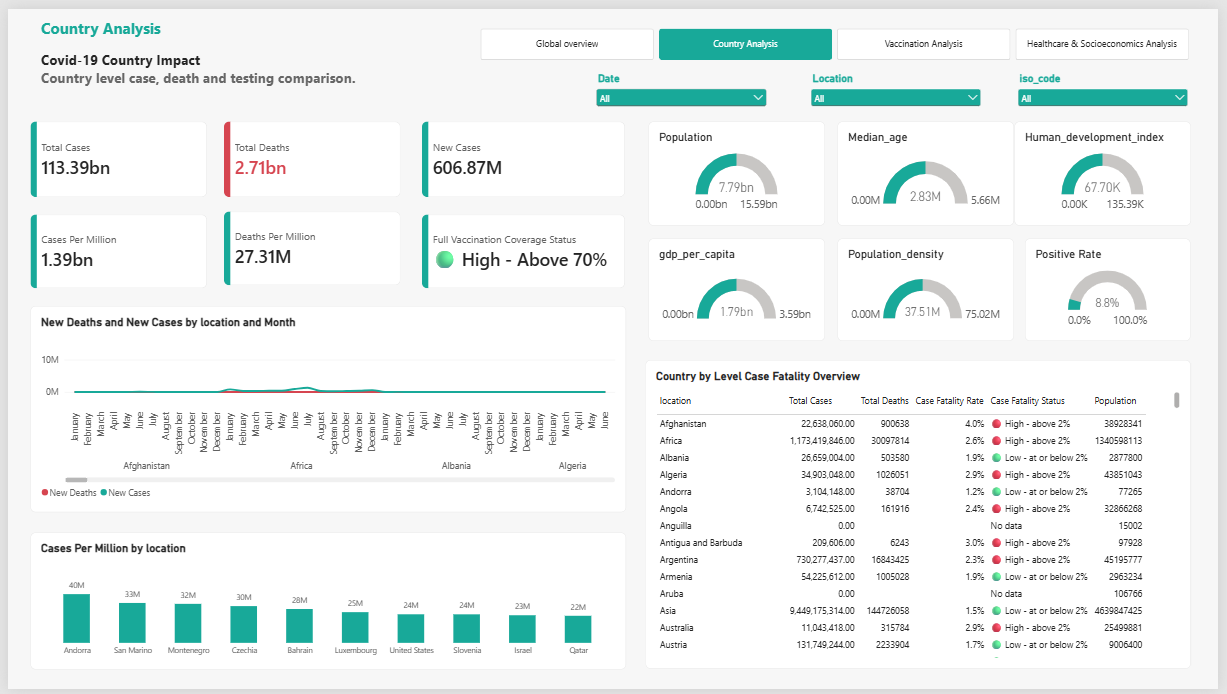

This screenshot's page, from the dashboard's own definition file:
{"tool":"powerbi","page":{"name":"Country Analysis","canvas":[1920,1080],"ordinal":1},"visuals":[{"type":"cardVisual","fields":{"Data":["calculations.Total Cases"]},"box":[35,177.5,280,120],"z":0},{"type":"cardVisual","fields":{"Data":["calculations.Total Deaths"]},"box":[342.5,177.5,280,120],"z":1},{"type":"cardVisual","fields":{"Data":["calculations.New Cases"]},"box":[657.5,177.5,322.5,120],"z":2},{"type":"cardVisual","fields":{"Data":["calculations.Cases Per Million"]},"box":[35,325,280,117.5],"z":3},{"type":"cardVisual","fields":{"Data":["calculations.Deaths Per Million"]},"box":[342.5,322.5,280,117.5],"z":4},{"type":"cardVisual","fields":{"Data":["calculations.Full Vaccination Coverage Status"]},"box":[657.5,325,322.5,117.5],"z":5},{"type":"lineChart","fields":{"Category":["Sheet1.location","Sheet1.date.Variation.Date Hierarchy.Month"],"Y":["calculations.New Deaths","calculations.New Cases"]},"box":[35,472.5,945,327.5],"z":6},{"type":"columnChart","fields":{"Category":["Sheet1.location"],"Y":["calculations.Cases Per Million"]},"box":[35,830,945,217.5],"z":7},{"type":"tableEx","title":"Country by Level Case Fatality Overview","fields":{"Values":["Sheet1.location","calculations.Total Cases","calculations.Total Deaths","calculations.Case Fatality Rate","calculations.Case Fatality Status","calculations.Population"]},"box":[1012.5,557.5,865,490],"z":8},{"type":"pageNavigator","box":[750,30,1127.3,50],"z":9},{"type":"gauge","fields":{"Y":["calculations.Positive Rate"]},"box":[1615,365,262.5,162.5],"z":10},{"type":"gauge","title":"Human_development_index","fields":{"Y":["Sum(Sheet1.human_development_index)"]},"box":[1597.5,177.5,280,165],"z":11},{"type":"gauge","fields":{"Y":["Sum(Sheet1.median_age)"]},"box":[1317.5,177.5,280,165],"z":12},{"type":"gauge","fields":{"Y":["Sum(Sheet1.gdp_per_capita)"]},"box":[1017.5,365,280,162.5],"z":13},{"type":"gauge","fields":{"Y":["Sum(Sheet1.population_density)"]},"box":[1317.5,365,280,162.5],"z":14},{"type":"gauge","fields":{"Y":["calculations.Population"]},"box":[1017.5,177.5,280,165],"z":15},{"type":"slicer","fields":{"Values":["Sheet1.date"]},"box":[927.5,100,280,55],"z":16},{"type":"slicer","fields":{"Values":["Sheet1.location"]},"box":[1270,100,280,55],"z":17},{"type":"slicer","fields":{"Values":["Sheet1.iso_code"]},"box":[1597.5,100,280,55],"z":18},{"type":"textbox","box":[52.5,15,527.5,140],"z":19}]}

Visuals, with their boxes in screenshot pixels (x1, y1, x2, y2), scaled from the page's 1920x1080 canvas onto the 1227x694 screenshot:
cardVisual - calculations.Total Cases: pyautogui.locateOnScreen(22, 114, 201, 191)
cardVisual - calculations.Total Deaths: pyautogui.locateOnScreen(219, 114, 398, 191)
cardVisual - calculations.New Cases: pyautogui.locateOnScreen(420, 114, 626, 191)
cardVisual - calculations.Cases Per Million: pyautogui.locateOnScreen(22, 209, 201, 284)
cardVisual - calculations.Deaths Per Million: pyautogui.locateOnScreen(219, 207, 398, 283)
cardVisual - calculations.Full Vaccination Coverage Status: pyautogui.locateOnScreen(420, 209, 626, 284)
lineChart - Sheet1.location x Sheet1.date.Variation.Date Hierarchy.Month: pyautogui.locateOnScreen(22, 304, 626, 514)
columnChart - Sheet1.location x calculations.Cases Per Million: pyautogui.locateOnScreen(22, 533, 626, 673)
"Country by Level Case Fatality Overview" tableEx: pyautogui.locateOnScreen(647, 358, 1200, 673)
pageNavigator: pyautogui.locateOnScreen(479, 19, 1200, 51)
gauge - calculations.Positive Rate: pyautogui.locateOnScreen(1032, 235, 1200, 339)
"Human_development_index" gauge: pyautogui.locateOnScreen(1021, 114, 1200, 220)
gauge - Sum(Sheet1.median_age): pyautogui.locateOnScreen(842, 114, 1021, 220)
gauge - Sum(Sheet1.gdp_per_capita): pyautogui.locateOnScreen(650, 235, 829, 339)
gauge - Sum(Sheet1.population_density): pyautogui.locateOnScreen(842, 235, 1021, 339)
gauge - calculations.Population: pyautogui.locateOnScreen(650, 114, 829, 220)
slicer - Sheet1.date: pyautogui.locateOnScreen(593, 64, 772, 100)
slicer - Sheet1.location: pyautogui.locateOnScreen(812, 64, 991, 100)
slicer - Sheet1.iso_code: pyautogui.locateOnScreen(1021, 64, 1200, 100)
textbox: pyautogui.locateOnScreen(34, 10, 371, 100)
